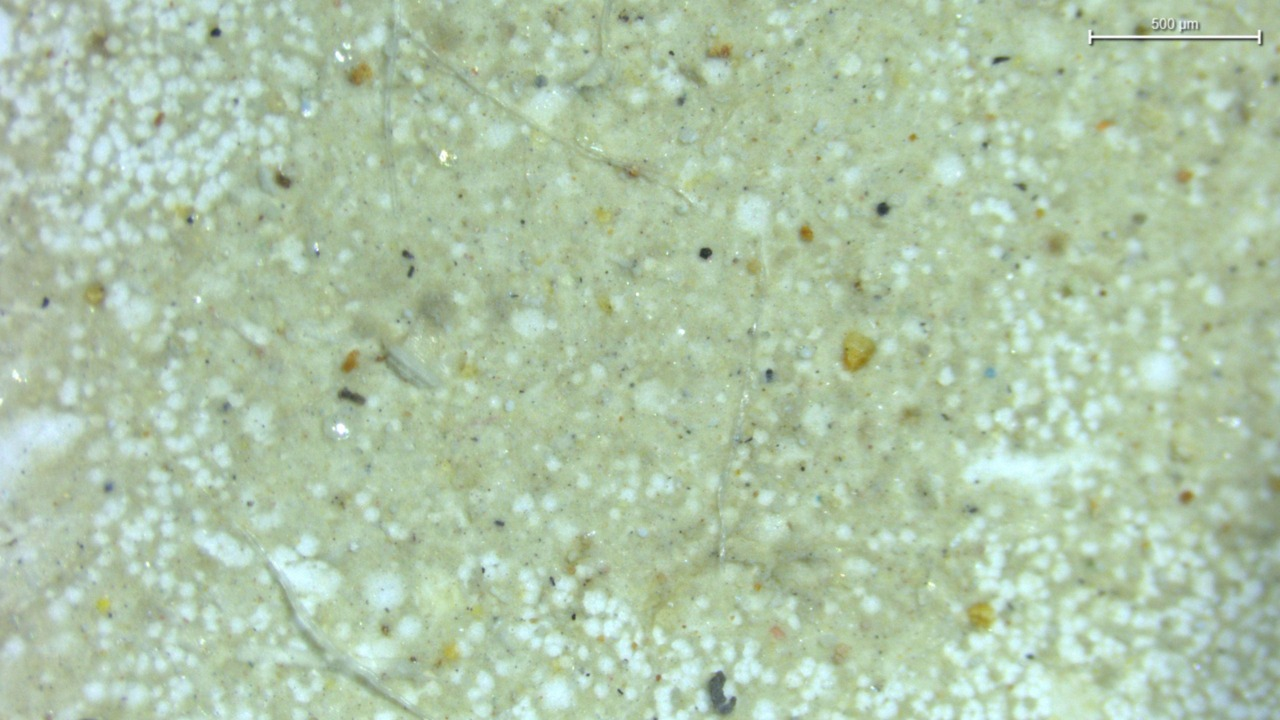microplastic_fragment: (384, 348, 440, 390)
